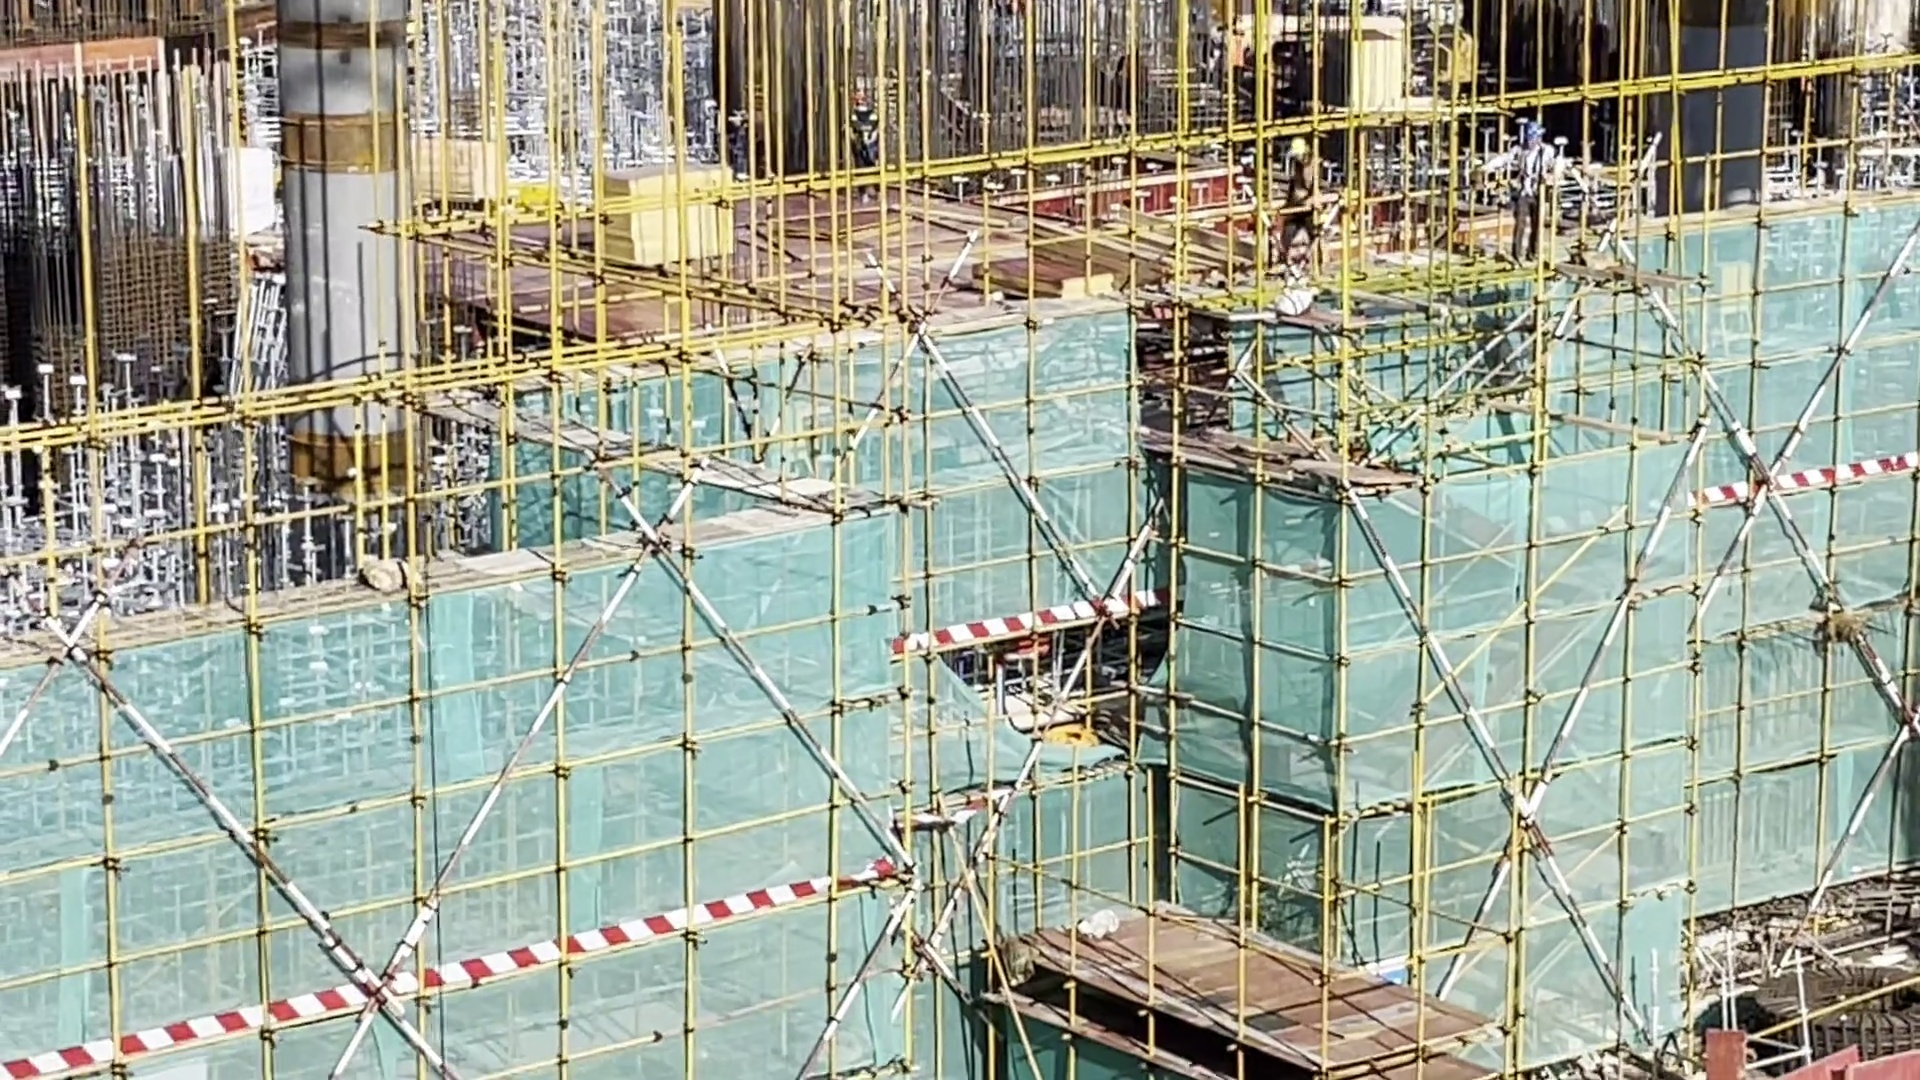board: (601, 154, 744, 261), (993, 249, 1089, 312)
helmet: (1280, 136, 1303, 165), (851, 71, 874, 98), (1527, 123, 1548, 144), (704, 94, 717, 118), (1234, 22, 1250, 38)
person: (1509, 123, 1581, 258), (706, 90, 774, 186), (1276, 136, 1336, 243), (854, 63, 897, 198), (1209, 3, 1254, 95)
vest: (723, 101, 776, 161), (1271, 164, 1318, 219), (854, 109, 896, 171), (1518, 139, 1551, 206), (1225, 32, 1245, 74)
wood: (1071, 226, 1233, 311), (413, 124, 521, 186)
